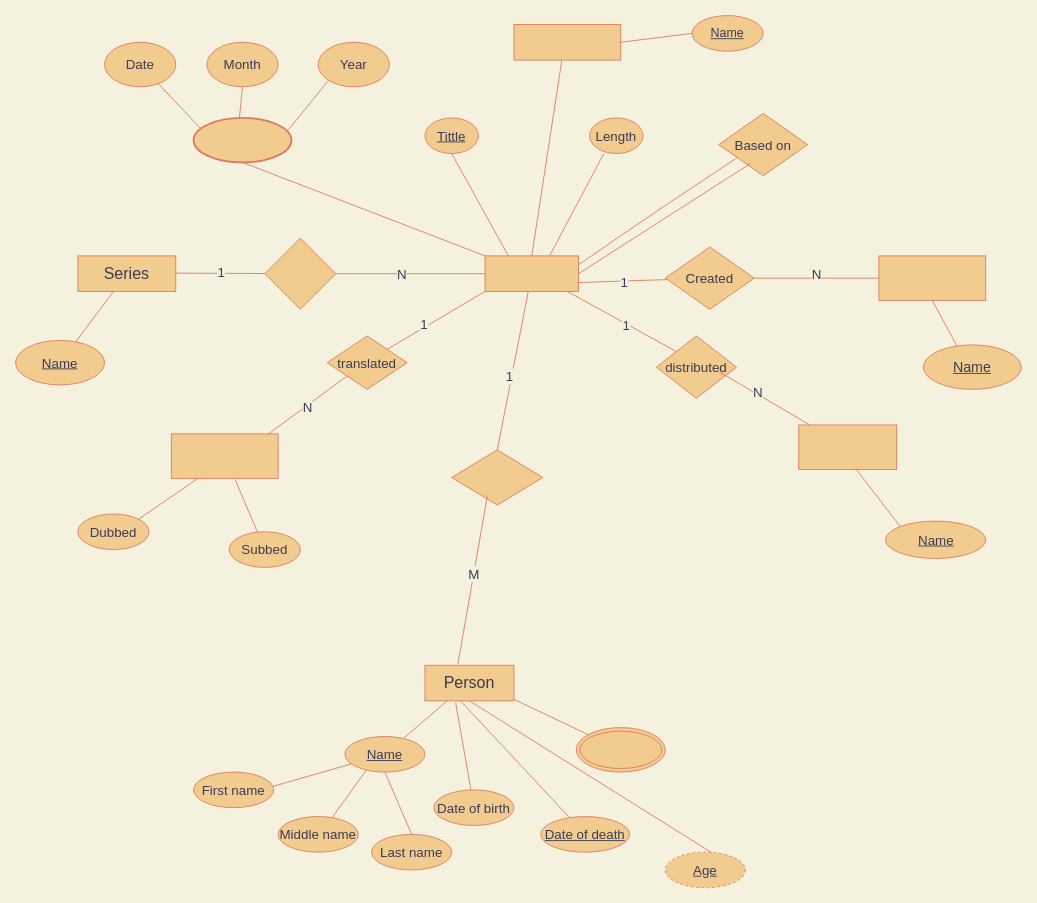
This 1037x903 diagram has some shape labels left out. Here are the shapes that lost their labels. From the top down, the centre of each, then its label:
At point 567,42: "Category".
At point 242,140: "Release date".
At point 300,273: "is part of".
At point 531,273: "Movie".
At point 932,277: "Countries".
At point 224,455: "Languages".
At point 847,446: "Companies".
At point 497,477: "worked on".
At point 620,749: "Role(s)".
